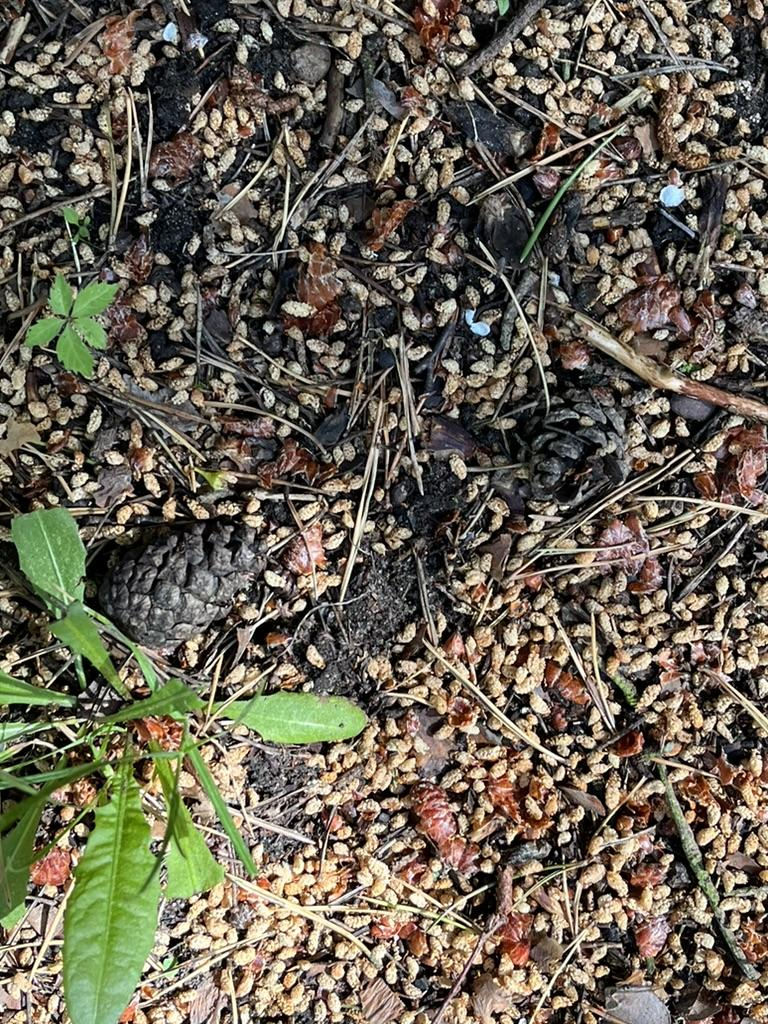pine: (101, 498, 268, 663), (516, 386, 651, 536)
